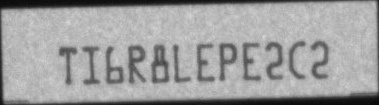2: (310, 41, 330, 80), (265, 42, 283, 80)
6: (104, 45, 124, 84)
8: (151, 44, 170, 84)
C: (289, 40, 305, 80)
E: (196, 42, 215, 83), (243, 40, 260, 81)
I: (81, 47, 100, 84)
L: (172, 45, 191, 82)
P: (219, 42, 238, 83)
R: (128, 44, 147, 85)
T: (58, 45, 77, 86)
